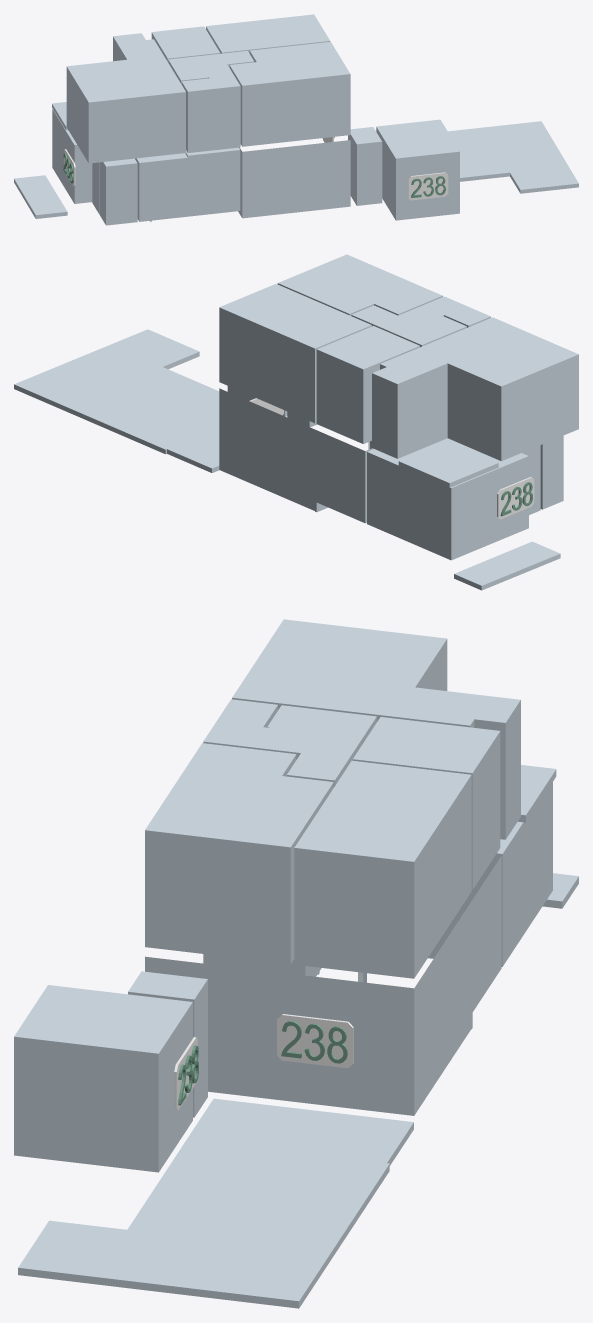
3 renders of one model, top to bottom at view 1: azimuth 30°, elevation 25°; view 2: azimuth 150°, elevation 25°; view 3: azimuth 270°, elevation 25°, orthographic. The views are drawn at different scales.
Visible parts, largest first — view 1: g_11, g_6, g_1, g_2, g_12, g_5, g_10, g_7, g_4, g_3, g_0, g_9 (+3 smaller); view 2: g_11, g_12, g_7, g_1, g_0, g_9, g_6, g_14, g_8, g_13, g_3, g_10 (+2 smaller); view 3: g_12, g_1, g_7, g_6, g_5, g_11, g_9, g_0, g_8, g_4, g_26, g_10 (+2 smaller).
Boxes of the visible parts, bbox=[...] form: g_11: bbox=[66, 33, 185, 163]; g_6: bbox=[229, 41, 350, 146]; g_1: bbox=[238, 140, 350, 218]; g_2: bbox=[92, 147, 240, 221]; g_12: bbox=[448, 121, 578, 193]; g_5: bbox=[376, 119, 459, 220]; g_10: bbox=[181, 74, 240, 152]; g_7: bbox=[206, 14, 330, 53]; g_4: bbox=[348, 127, 382, 205]; g_3: bbox=[100, 158, 137, 225]; g_0: bbox=[52, 109, 92, 203]; g_9: bbox=[151, 26, 220, 62]; g_11: bbox=[372, 317, 578, 461]; g_12: bbox=[14, 329, 219, 472]; g_7: bbox=[219, 284, 371, 423]; g_1: bbox=[219, 388, 373, 523]; g_0: bbox=[367, 438, 528, 560]; g_9: bbox=[316, 326, 419, 443]; g_6: bbox=[277, 254, 442, 315]; g_14: bbox=[398, 441, 498, 487]; g_8: bbox=[351, 305, 466, 347]; g_13: bbox=[454, 541, 560, 590]; g_3: bbox=[540, 435, 563, 509]; g_10: bbox=[419, 296, 490, 327]; g_12: bbox=[18, 1098, 413, 1308]; g_1: bbox=[145, 856, 501, 1115]; g_7: bbox=[294, 760, 471, 978]; g_6: bbox=[145, 743, 333, 964]; g_5: bbox=[14, 985, 192, 1172]; g_11: bbox=[232, 619, 520, 839]; g_9: bbox=[352, 717, 500, 889]; g_0: bbox=[428, 782, 552, 966]; g_8: bbox=[257, 705, 376, 787]; g_4: bbox=[128, 971, 207, 1117]; g_26: bbox=[277, 1014, 353, 1068]; g_10: bbox=[203, 699, 277, 749].
Size of the model in its own units: 19.47 by 5.35 by 10.45.
